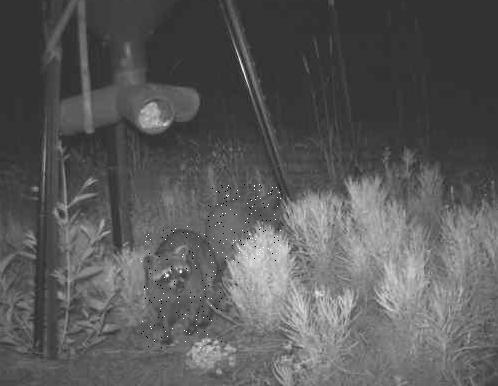Raccoon: (140, 227, 221, 350), (206, 185, 281, 265)
